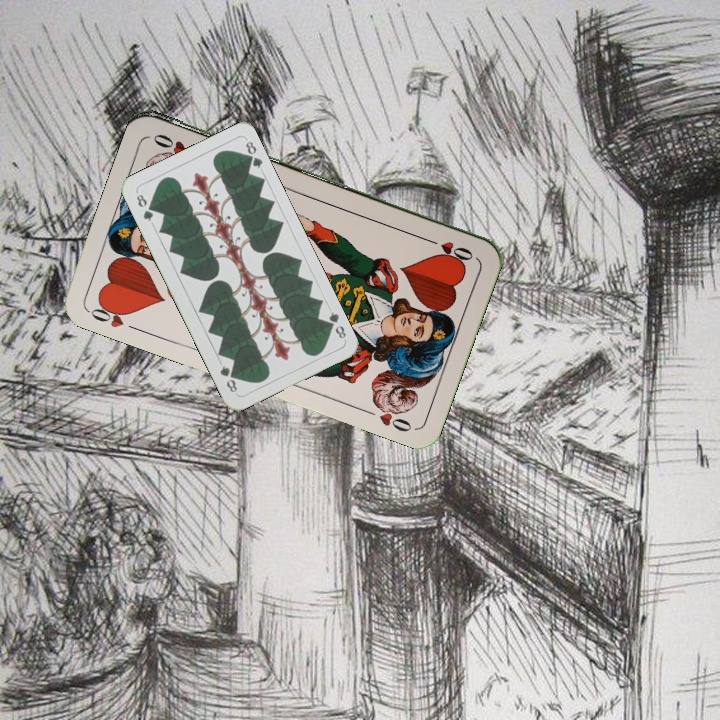G8: (322, 308, 349, 341), (132, 190, 156, 224)
HO: (85, 296, 142, 334), (420, 233, 476, 262)
